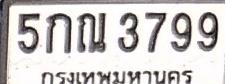3: (117, 11, 139, 52)
5: (18, 12, 40, 54)
7: (144, 11, 166, 53)
9: (170, 11, 192, 52), (197, 11, 218, 51)
A01: (45, 12, 72, 54)
A19: (76, 12, 107, 54)
BKK: (37, 64, 195, 84)
